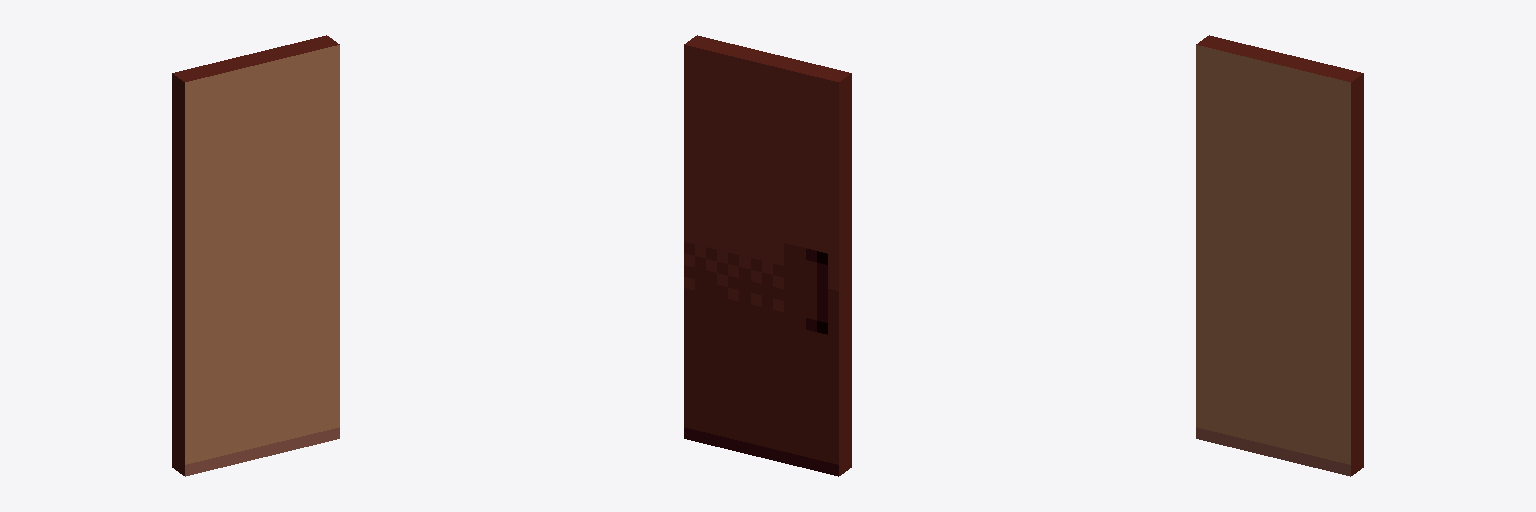
3 views of the same model, side by side, from view 1: azimuth 30°, elevation 25°; view 2: azimuth 150°, elevation 25°; view 3: azimuth 330°, elevation 25° (orthographic).
Visible parts, largest first — view 1: Default; view 2: Default; view 3: Default.
Part boxes in pixels (x1,y1,x2,y2): Default: (172, 35, 339, 476); Default: (684, 35, 851, 476); Default: (1196, 35, 1363, 476).
Bounding box in the file's own units: 0.14 × 0.34 × 0.02.
Materials: 1 (1 with a texture image).